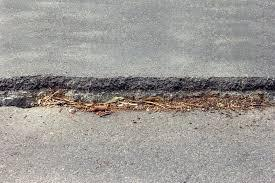pothole: (0, 68, 275, 124)
